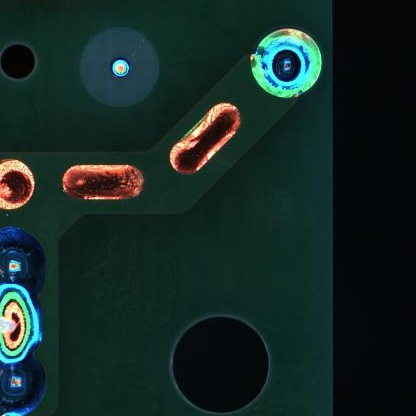spot: (252, 27, 323, 98), (1, 225, 46, 298), (1, 360, 49, 416)
